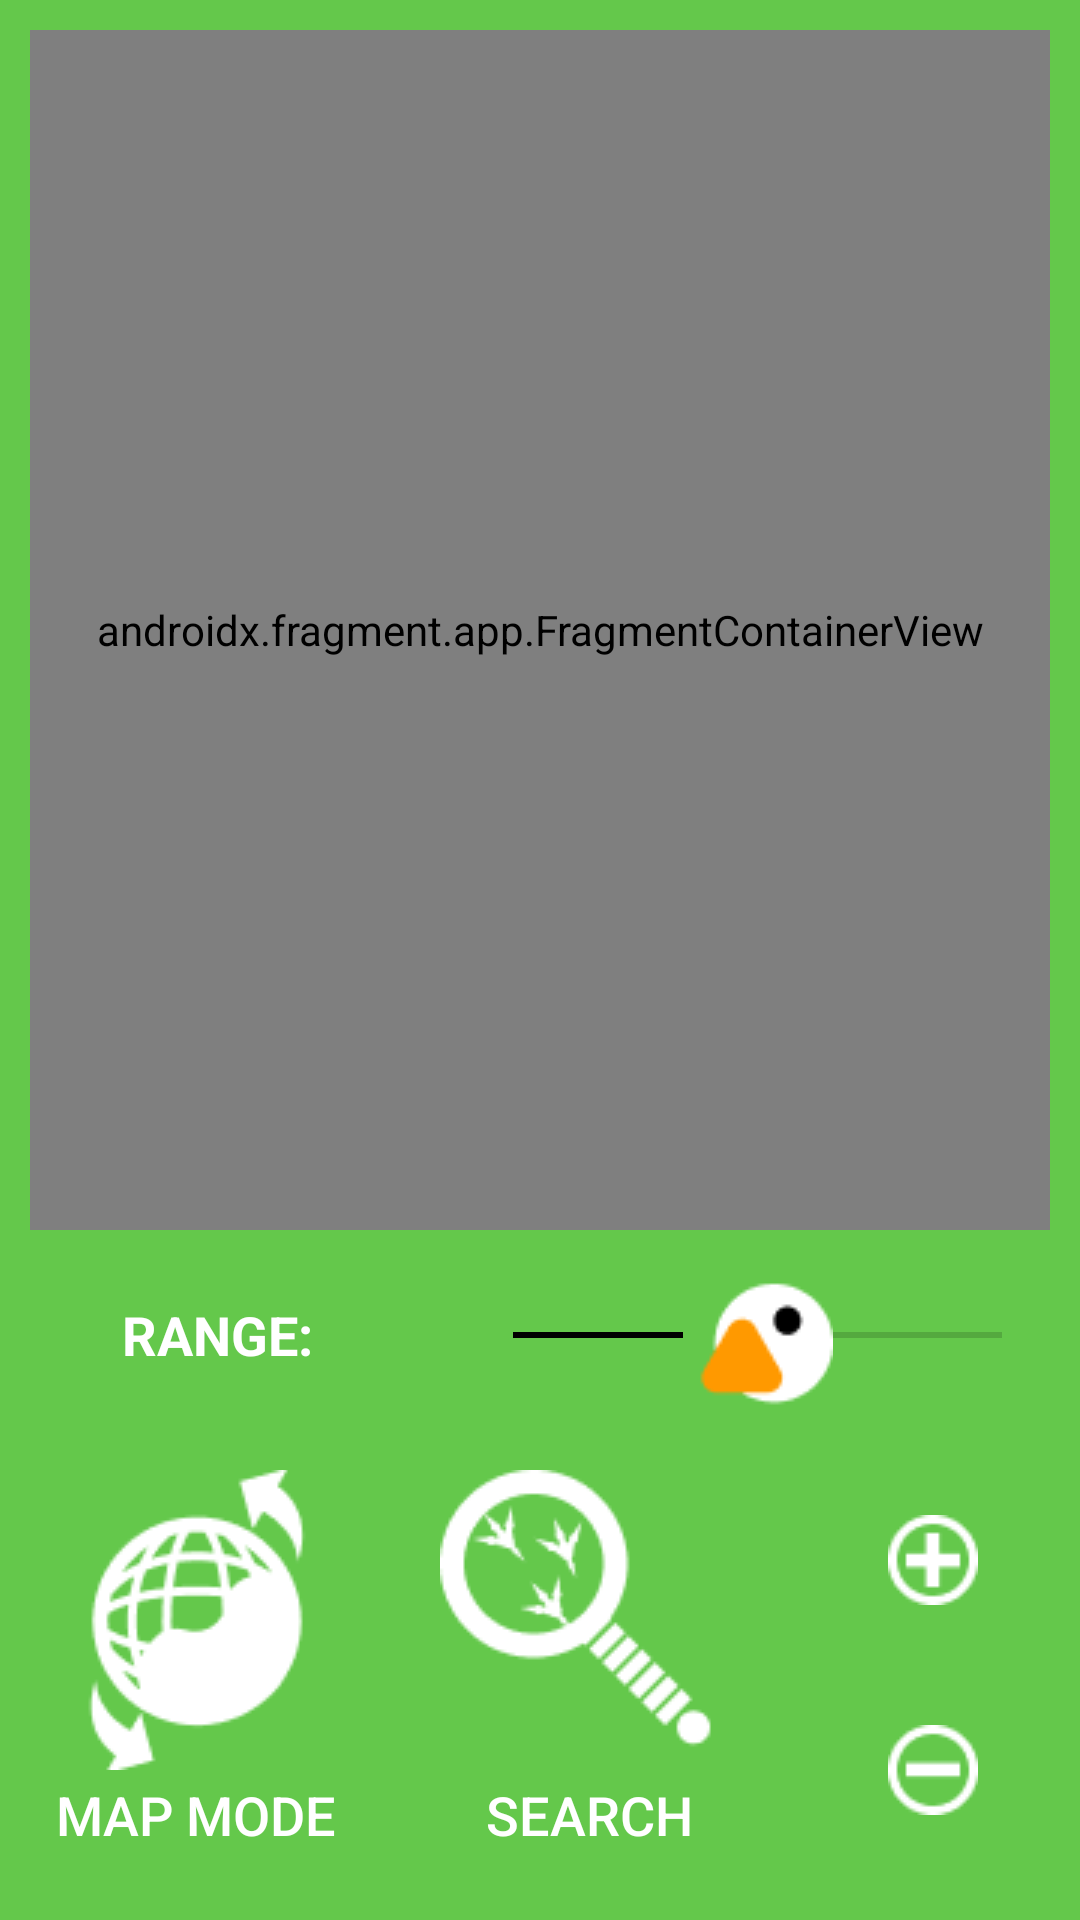

Icons on this 1080×1920 Android screen, each with the point to tap as (x=x, y=y):
Zoom In: (x=933, y=1560)
Zoom Out: (x=933, y=1770)
